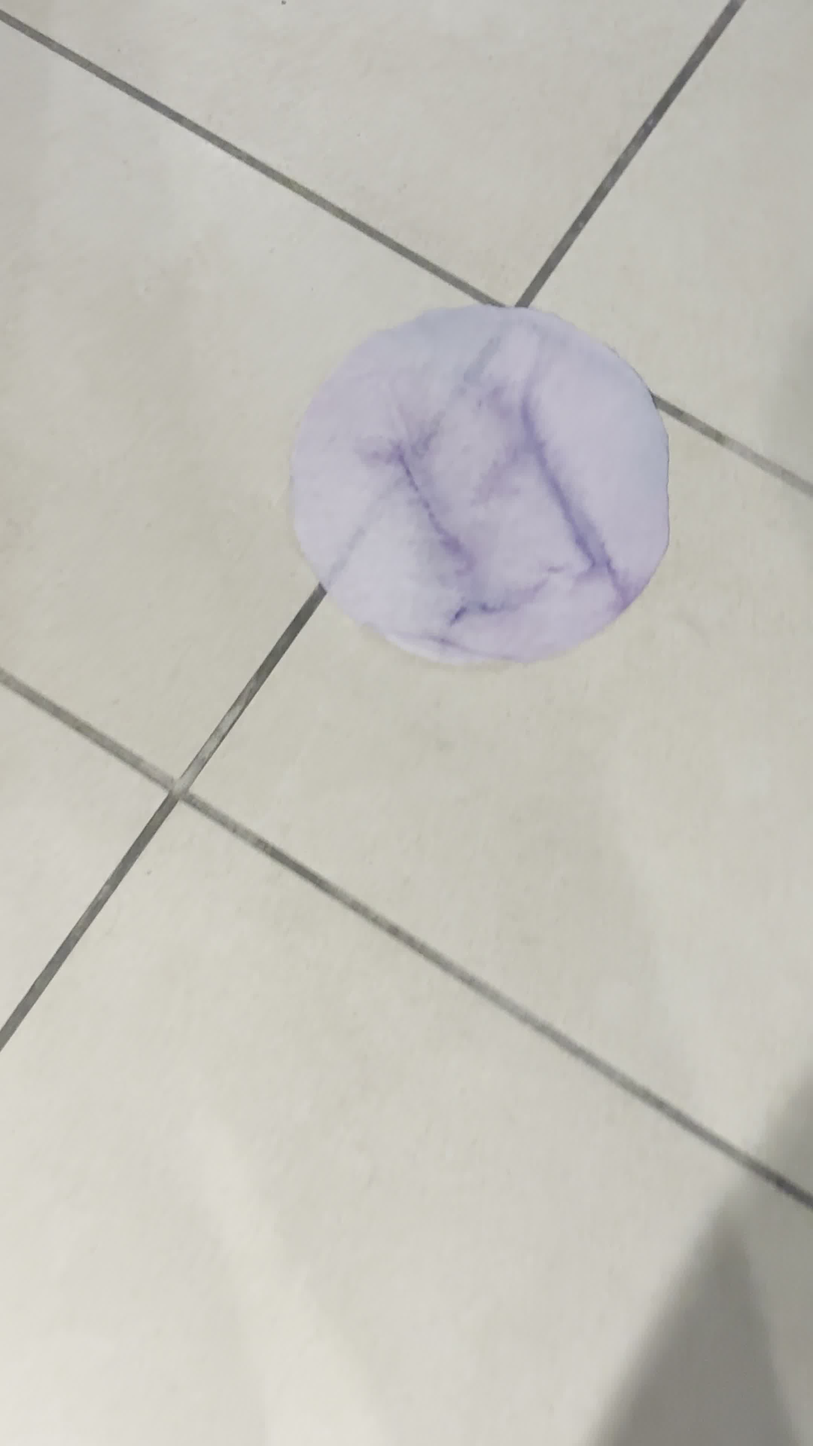Target: (285, 304, 672, 669)
